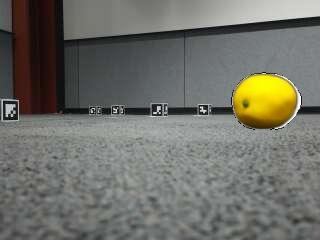lemon: (234, 74, 297, 128)
